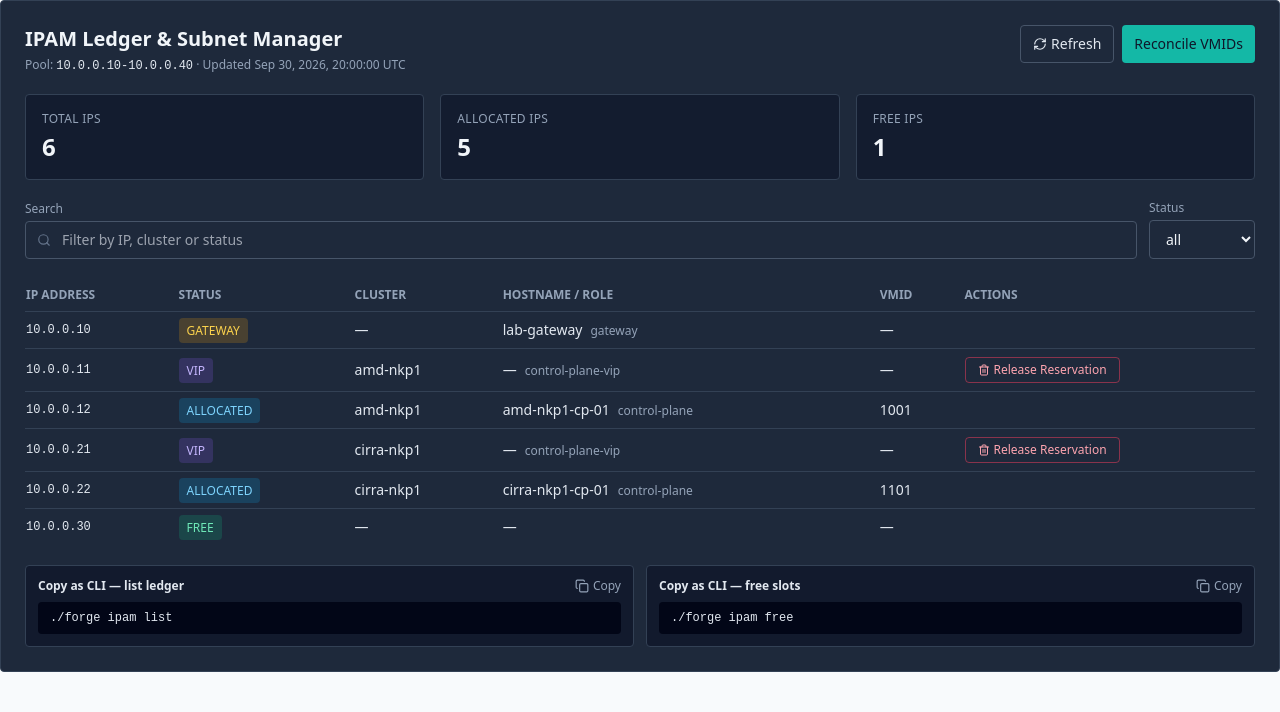
it: IpamPage › Reconcile VMIDs shows the drift report
The width and height of the screenshot is (1280, 712).
Expected: the row with test id "row-ipam-10.0.0.11" is shown, x1=25 y1=348 x2=1255 y2=392
What coordinates should you click on to do the following:
click the button with test id "btn-reconcile-ipam"
I would click on:
 (1189, 44)
Its box is x1=1122 y1=25 x2=1255 y2=63.
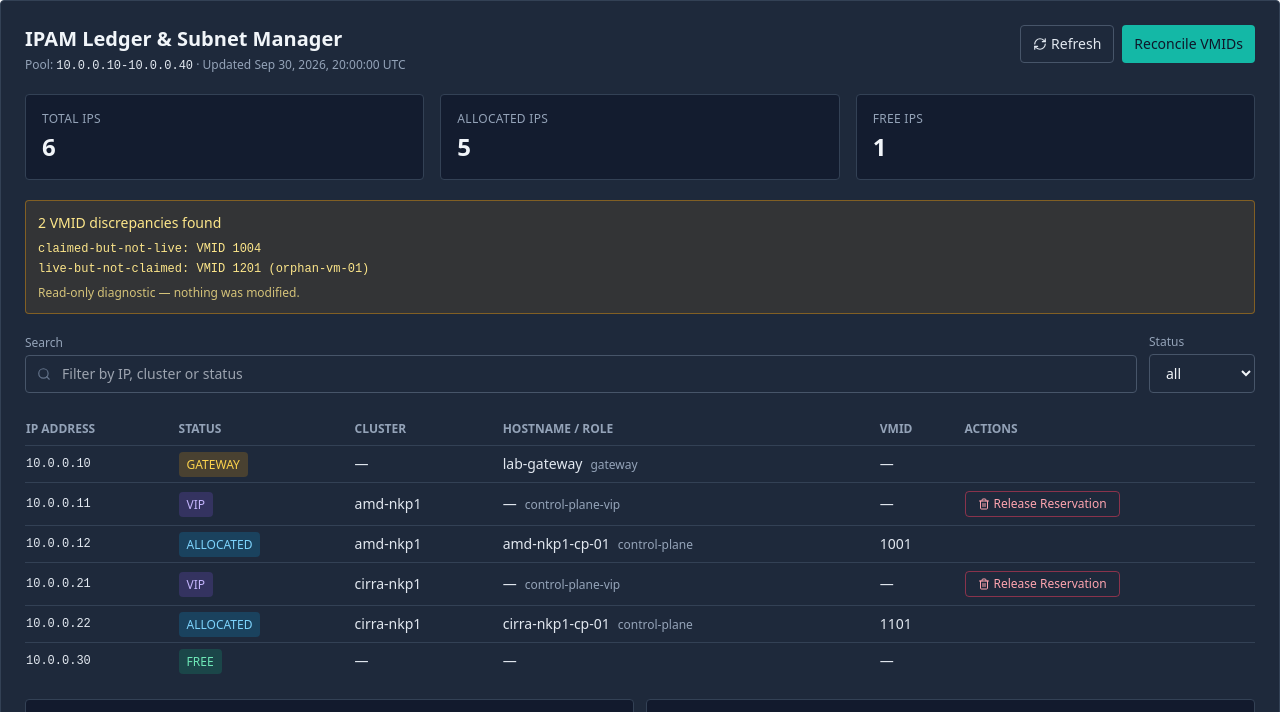
Now the text with test id "text-reconcile-summary" reads "2 VMID discrepancies found", box x1=38 y1=213 x2=221 y2=232
Now the number of list items with test id "row-reconcile-detail" is 2, box x1=38 y1=242 x2=261 y2=256; x1=38 y1=262 x2=369 y2=276
Now the element with test id "panel-reconcile-result" shows "VMID 1201 (orphan-vm-01)", box x1=25 y1=200 x2=1255 y2=314
